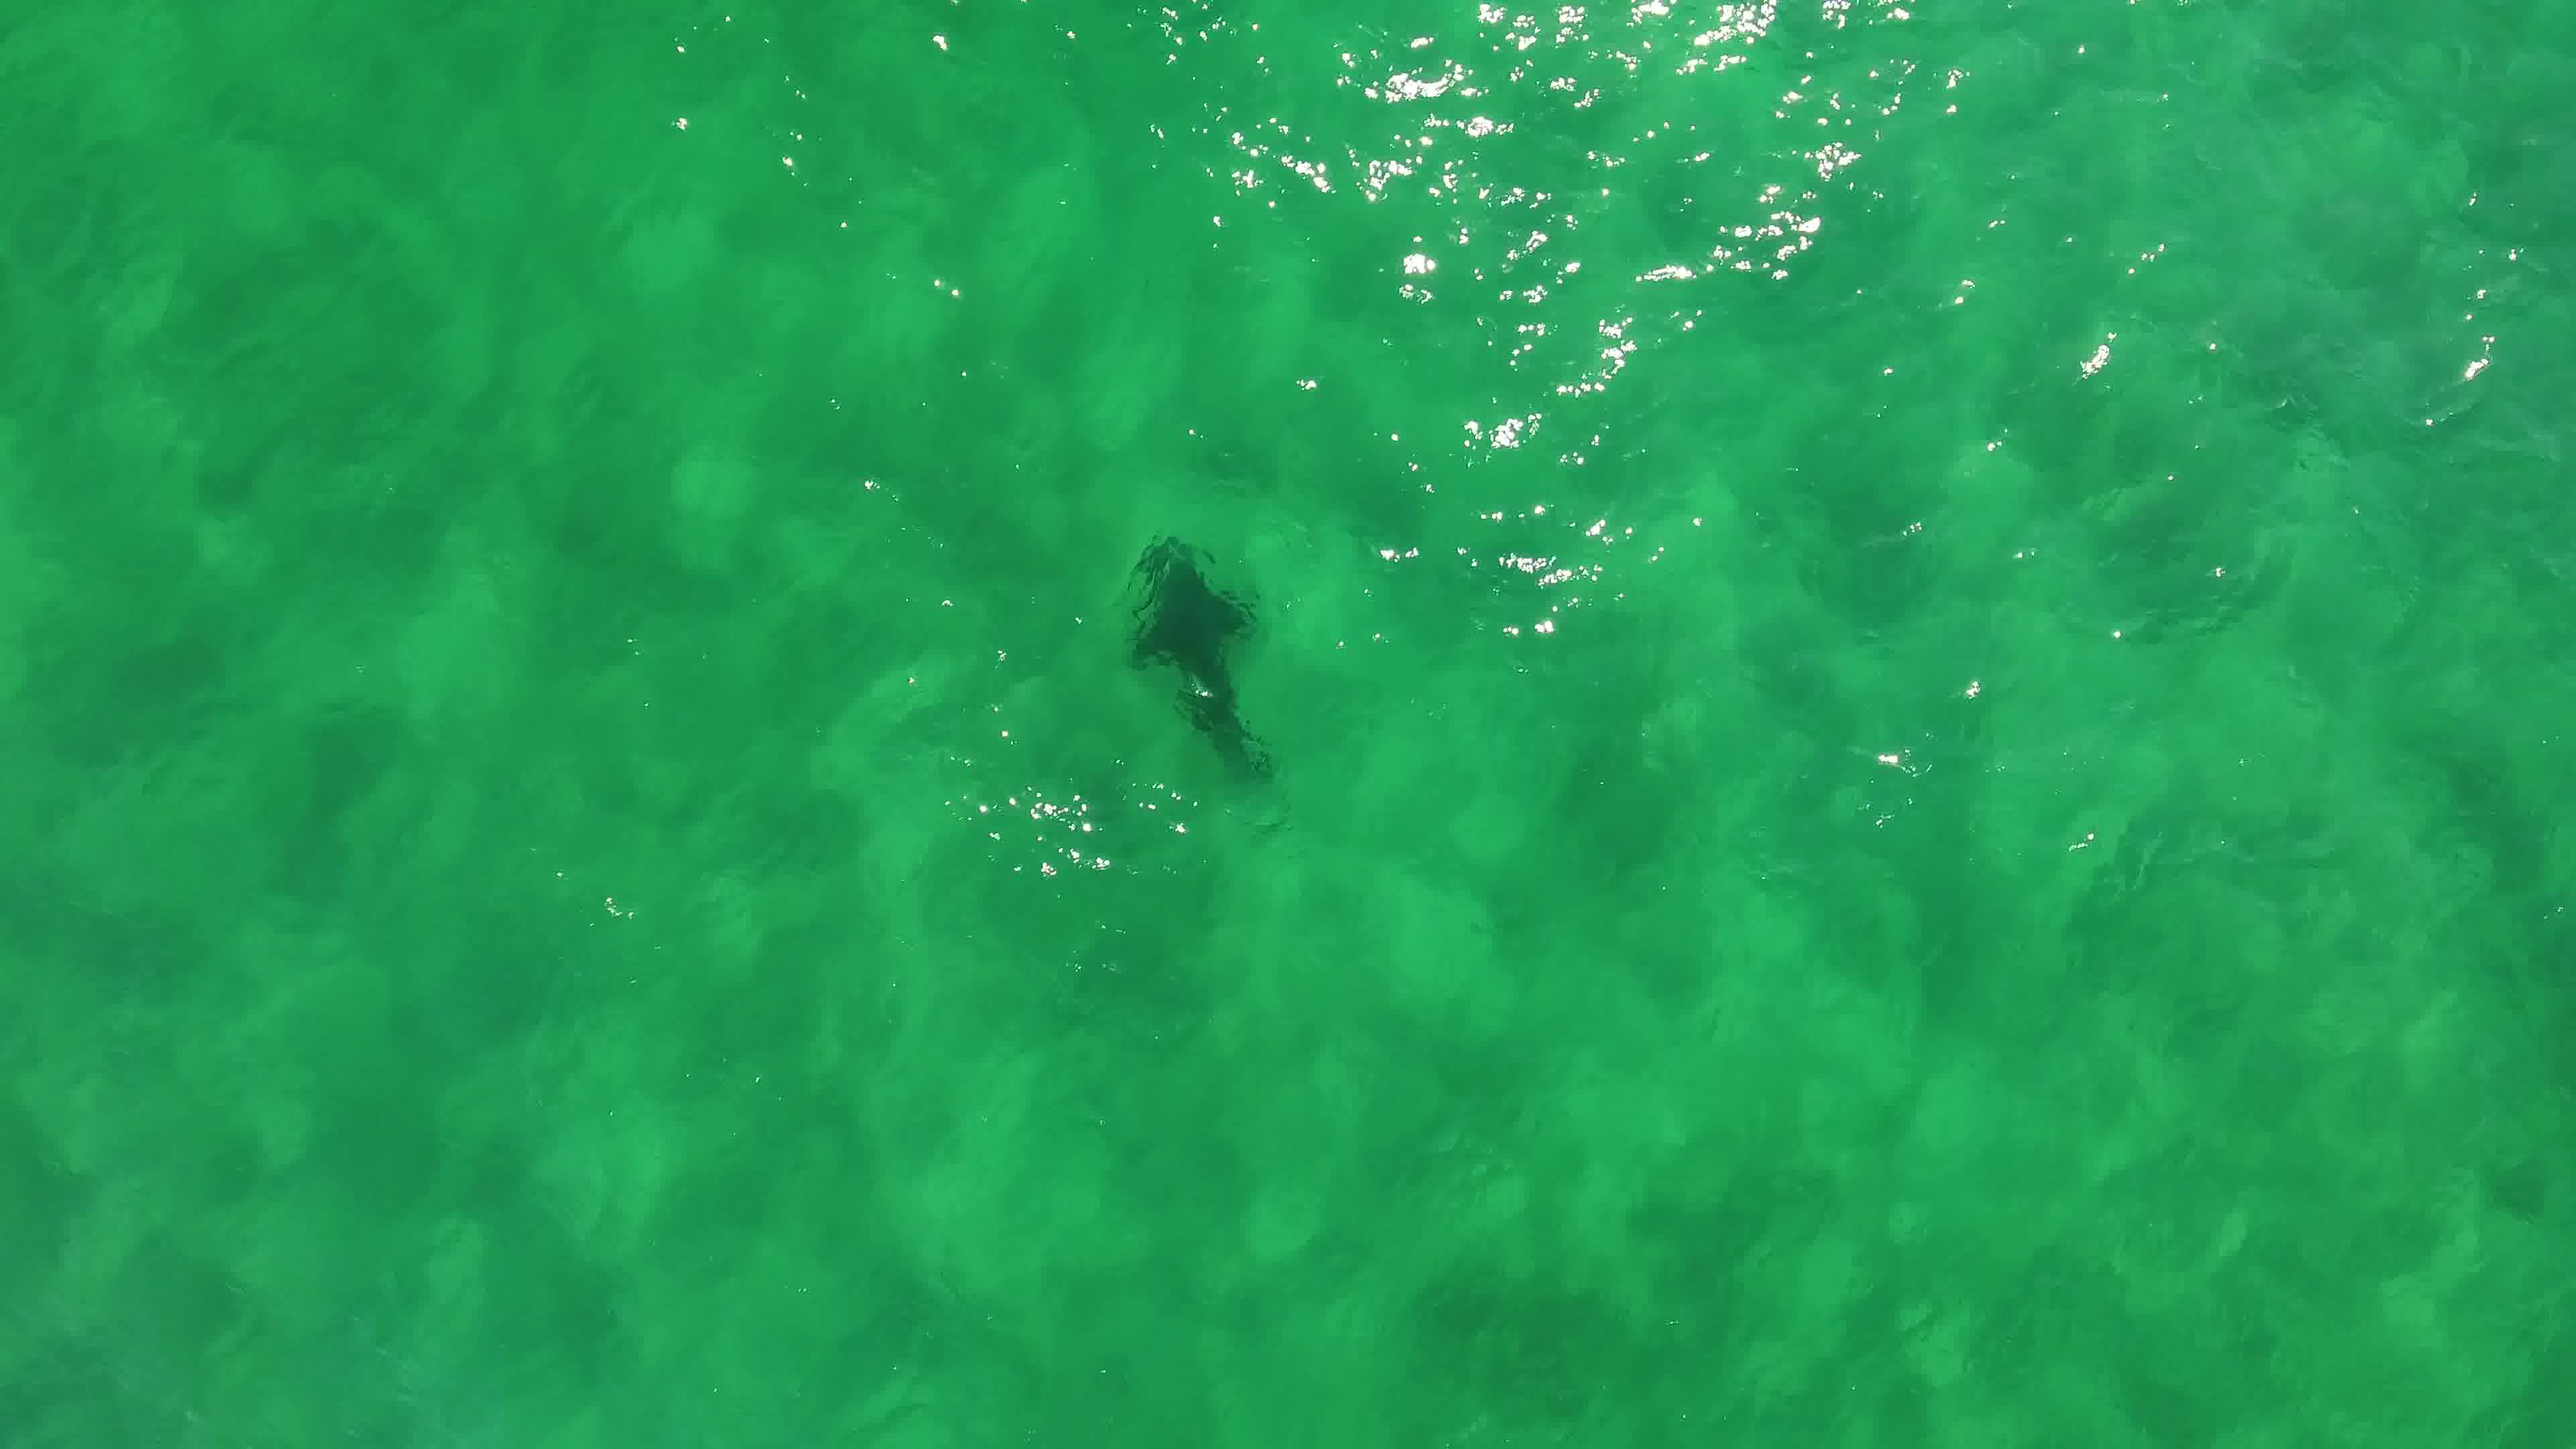shark: (1111, 533, 1284, 787)
